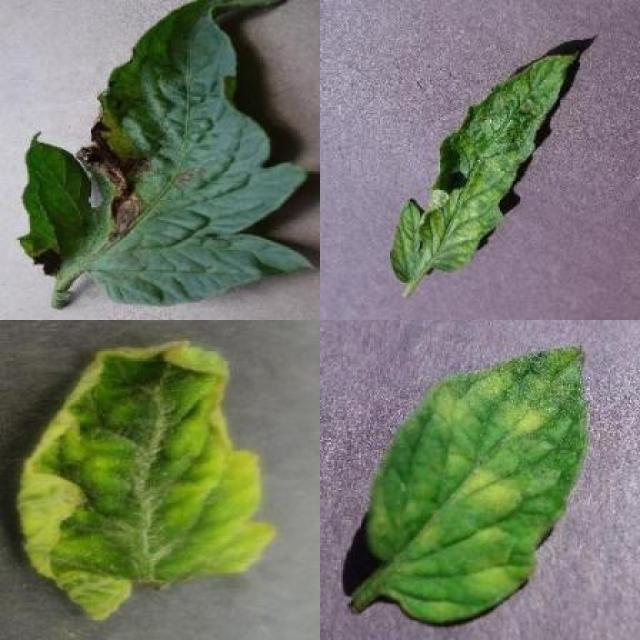Early Blight: (20, 0, 317, 306)
Leaf Mold: (369, 344, 587, 624)
Mosaic Virus: (388, 48, 582, 286)
Yellow Leaf Curl Virus: (14, 340, 276, 623)
